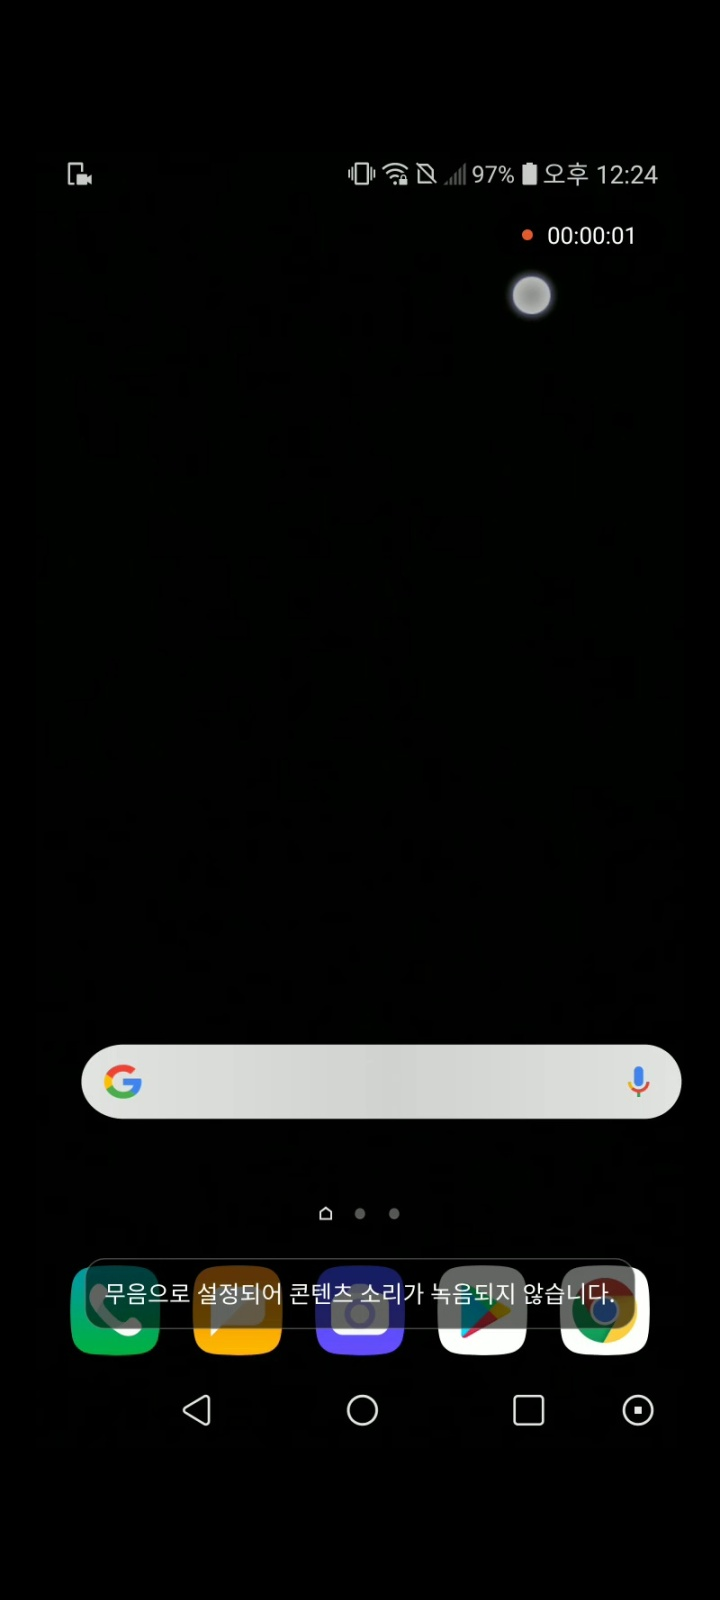Cursor: (508, 274, 553, 319)
